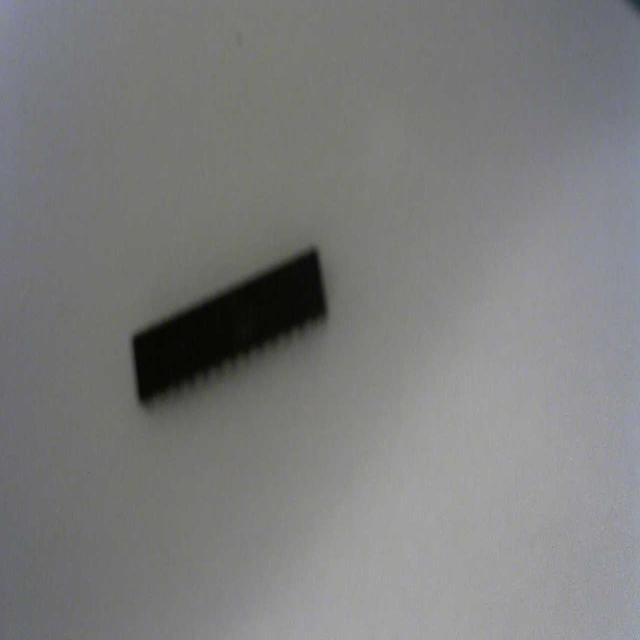atmega: (128, 241, 330, 409)
